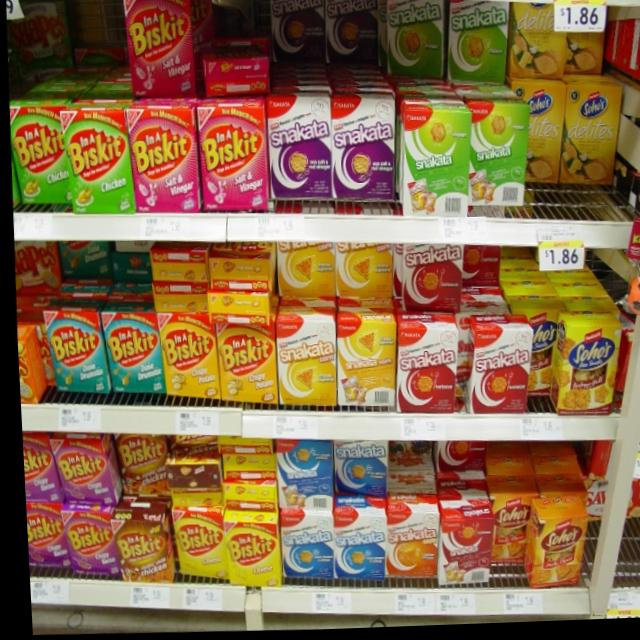q286: (62, 99, 130, 221), (6, 92, 69, 207)
